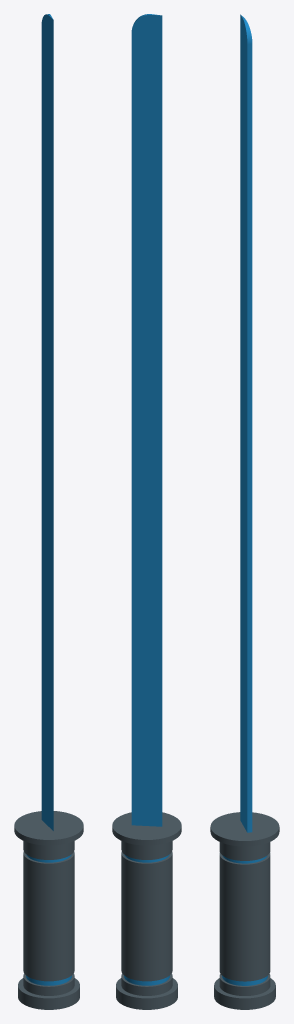
The model's file is sword 1.fbx.
3 renders of one model, left to right at view 1: azimuth 90°, elevation 25°; view 2: azimuth 150°, elevation 25°; view 3: azimuth 270°, elevation 25°, orthographic.
Visible parts, largest first — view 1: Cylinder, Cylinder_3; view 2: Cylinder_3, Cylinder; view 3: Cylinder, Cylinder_3.
Part boxes in pixels (bbox=[...]): Cylinder: bbox=[14, 811, 83, 1009]; Cylinder_3: bbox=[41, 14, 53, 830]; Cylinder_3: bbox=[131, 14, 162, 826]; Cylinder: bbox=[112, 812, 181, 1009]; Cylinder: bbox=[210, 812, 279, 1009]; Cylinder_3: bbox=[240, 14, 252, 832].
Bounding box in the file's own units: 45.23 × 706 × 45.23.
